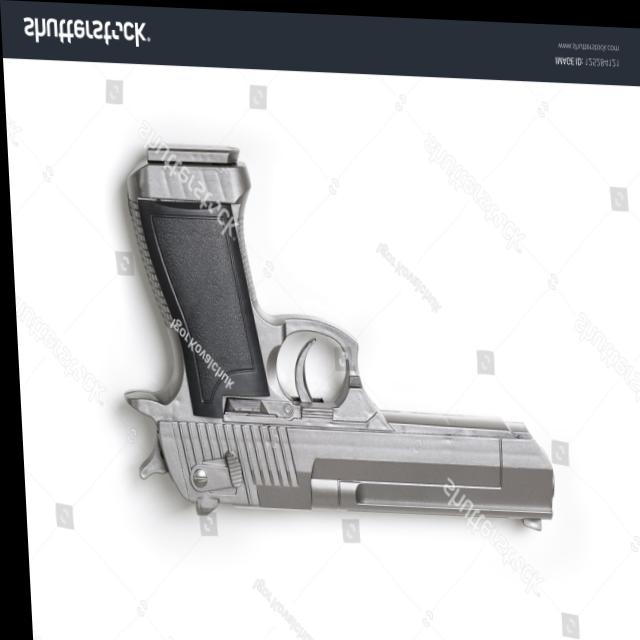handgun: (113, 144, 552, 534)
